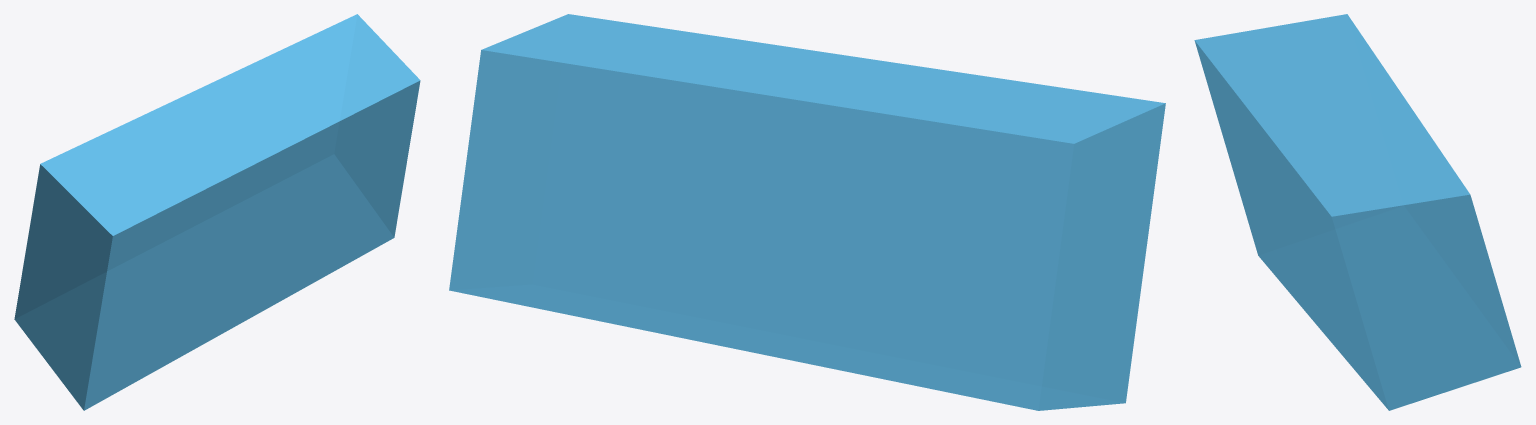
Rendered from Event_420094457_HErechit_10.fbx.
3 renders of one model, left to right at view 1: azimuth 30°, elevation 25°; view 2: azimuth 150°, elevation 25°; view 3: azimuth 270°, elevation 25°, orthographic. The views are drawn at different scales.
Visible parts, largest first — view 1: Model; view 2: Model; view 3: Model.
Boxes of the visible parts, x1,y1,x2,y2 form: Model: (14, 14, 420, 410); Model: (449, 14, 1165, 410); Model: (1194, 14, 1521, 410).
Bounding box in the file's own units: 1.12 × 0.6788 × 0.7751.
